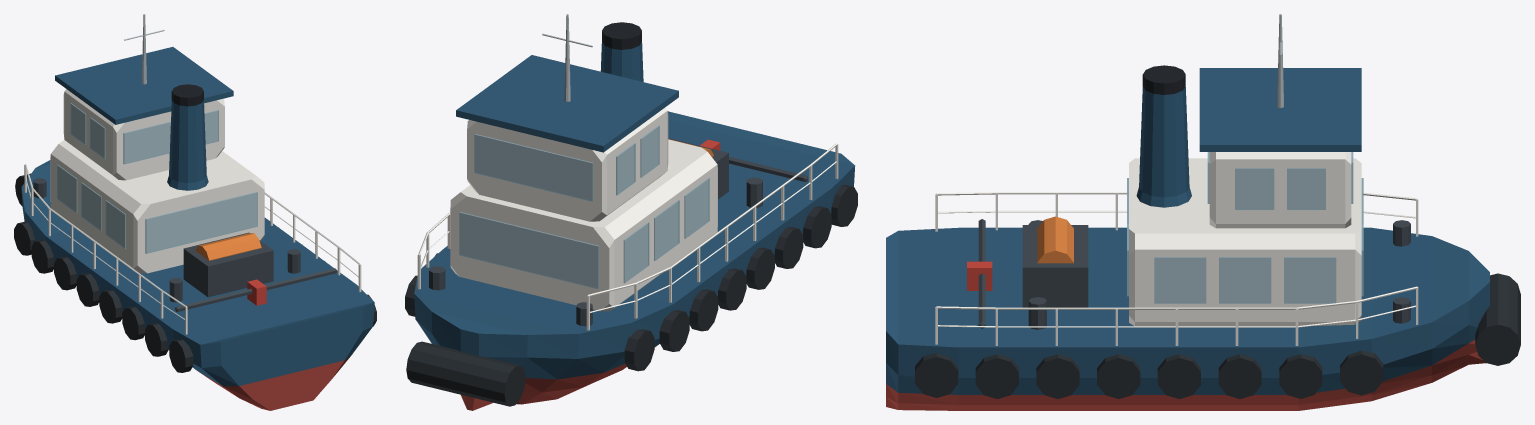
The model's file is BOAT_07.obj.
3 renders of one model, left to right at view 1: azimuth 30°, elevation 25°; view 2: azimuth 150°, elevation 25°; view 3: azimuth 270°, elevation 25°, orthographic. The views are drawn at different scales.
Parts seen in each view (by area): view 1: hull_upper, deckhouse, windows, wheelhouse_roof, wheelhouse, side_fenders, towing_winch, funnel, hull_lower, railings, tow_bar, bollards (+2 smaller); view 2: hull_upper, deckhouse, windows, wheelhouse, wheelhouse_roof, side_fenders, bow_fender, railings, funnel, hull_lower, bollards, towing_winch (+2 smaller); view 3: hull_upper, deckhouse, wheelhouse_roof, side_fenders, windows, wheelhouse, hull_lower, funnel, towing_winch, railings, bow_fender, bollards (+2 smaller).
Part boxes in pixels (bbox=[...]): hull_upper: bbox=[21, 160, 374, 386]; deckhouse: bbox=[50, 140, 264, 273]; windows: bbox=[57, 103, 257, 253]; wheelhouse_roof: bbox=[55, 47, 233, 124]; wheelhouse: bbox=[63, 89, 224, 180]; side_fenders: bbox=[14, 221, 376, 372]; towing_winch: bbox=[183, 232, 273, 297]; funnel: bbox=[167, 84, 208, 190]; hull_lower: bbox=[199, 356, 350, 410]; railings: bbox=[24, 164, 361, 334]; tow_bar: bbox=[175, 268, 336, 311]; bollards: bbox=[33, 178, 300, 302]; hull_upper: bbox=[414, 111, 855, 379]; deckhouse: bbox=[450, 139, 717, 311]; windows: bbox=[459, 125, 709, 289]; wheelhouse: bbox=[467, 108, 668, 221]; wheelhouse_roof: bbox=[456, 55, 678, 152]; side_fenders: bbox=[405, 184, 857, 371]; bow_fender: bbox=[406, 341, 525, 406]; railings: bbox=[417, 143, 838, 330]; funnel: bbox=[600, 22, 643, 81]; hull_lower: bbox=[461, 363, 626, 410]; bollards: bbox=[429, 177, 762, 326]; towing_winch: bbox=[668, 138, 728, 199]; hull_upper: bbox=[886, 227, 1489, 394]; deckhouse: bbox=[1129, 158, 1361, 326]; wheelhouse_roof: bbox=[1199, 68, 1361, 151]; side_fenders: bbox=[915, 350, 1383, 398]; windows: bbox=[1127, 152, 1363, 303]; wheelhouse: bbox=[1209, 152, 1351, 228]; hull_lower: bbox=[886, 340, 1486, 410]; funnel: bbox=[1136, 65, 1191, 207]; towing_winch: bbox=[1022, 216, 1088, 307]; railings: bbox=[935, 192, 1418, 345]; bow_fender: bbox=[1475, 273, 1520, 365]; bollards: bbox=[1028, 220, 1410, 329].
Size of the model in its own units: 5.94 by 8.27 by 12.55.
